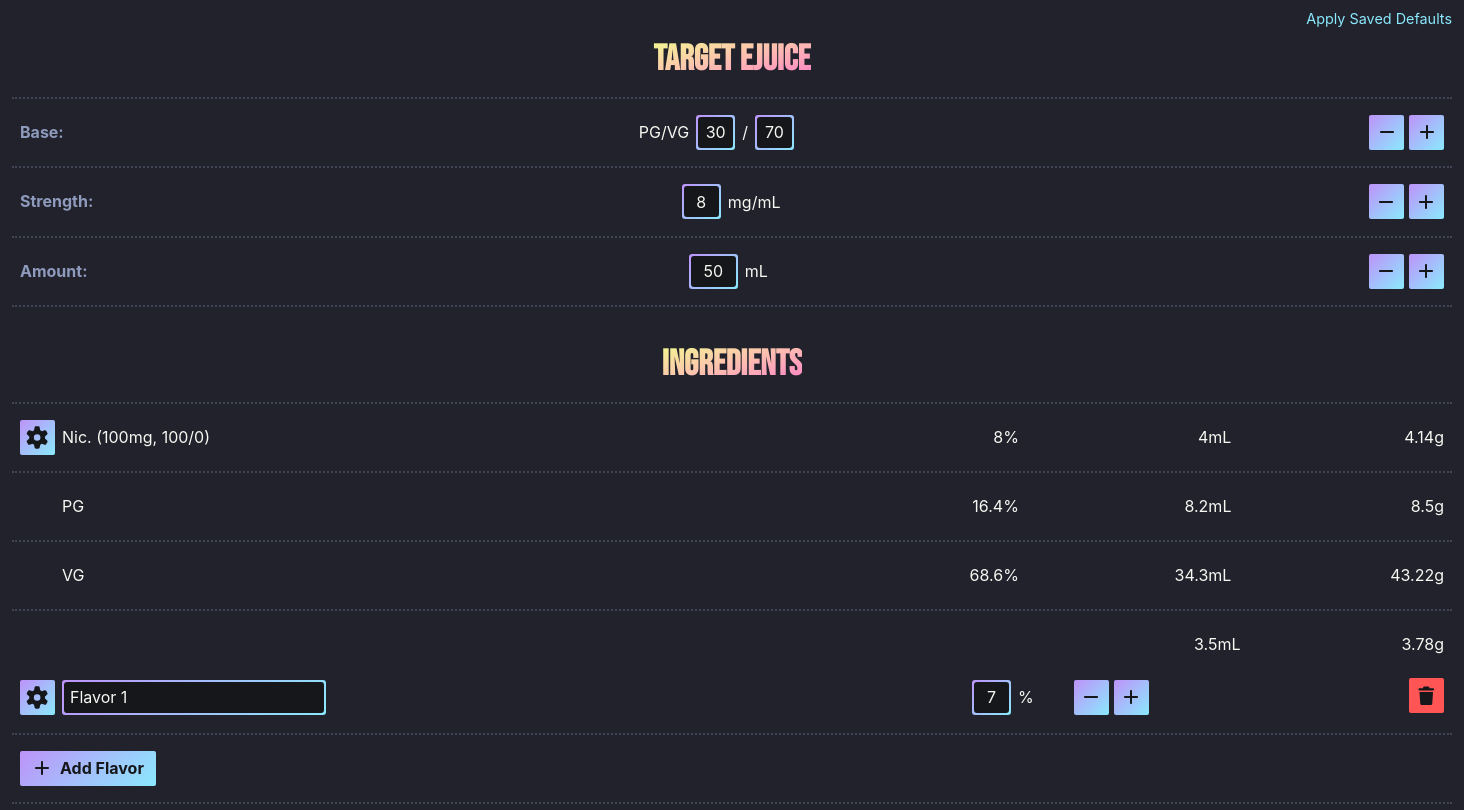
Test case: Calculator initialization › applies saved flavor defaults to newly added flavors
Expected: the number field with test id "flavor1PercentInput" holds "7", x1=974 y1=682 x2=1009 y2=713
Click the button with test id "flavorAddBtn": click(88, 768) x1=20 y1=751 x2=156 y2=786
(page scrolled)
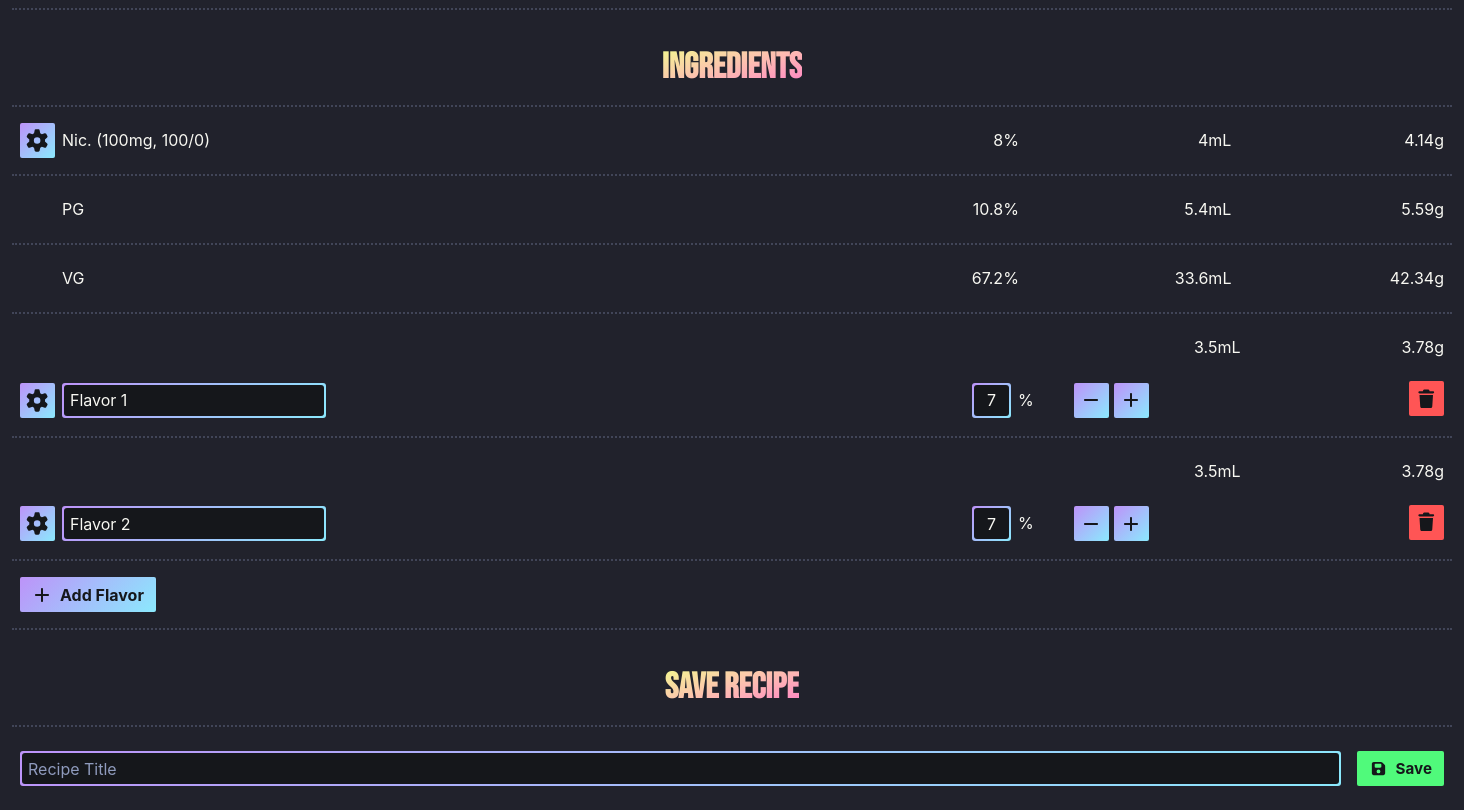
Expected: the number field with test id "flavor2PercentInput" holds "7", x1=974 y1=508 x2=1009 y2=539
Click the button with test id "flavor2ConfigBtn": click(38, 524) x1=20 y1=506 x2=55 y2=541
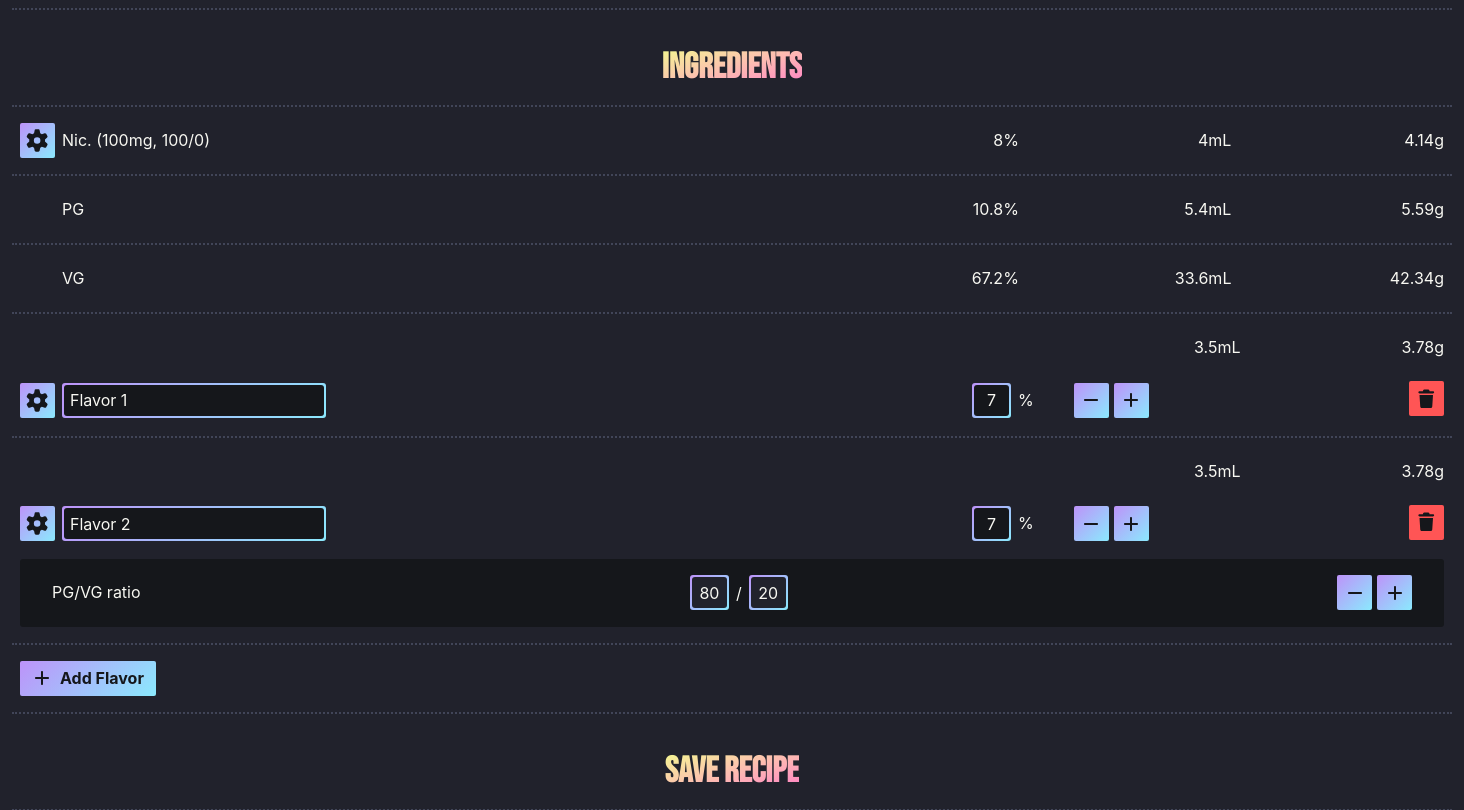
Expected: the number field with test id "flavor2ConfigPgInput" holds "80", x1=692 y1=577 x2=727 y2=608
Expected: the number field with test id "flavor2ConfigVgInput" holds "20", x1=751 y1=577 x2=786 y2=608
